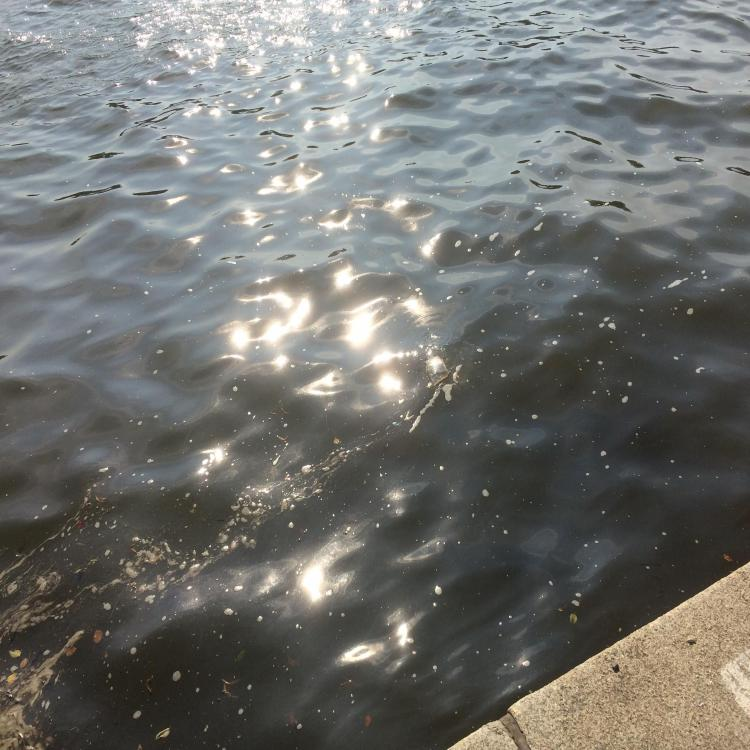Plastic film: (426, 356, 450, 387)
